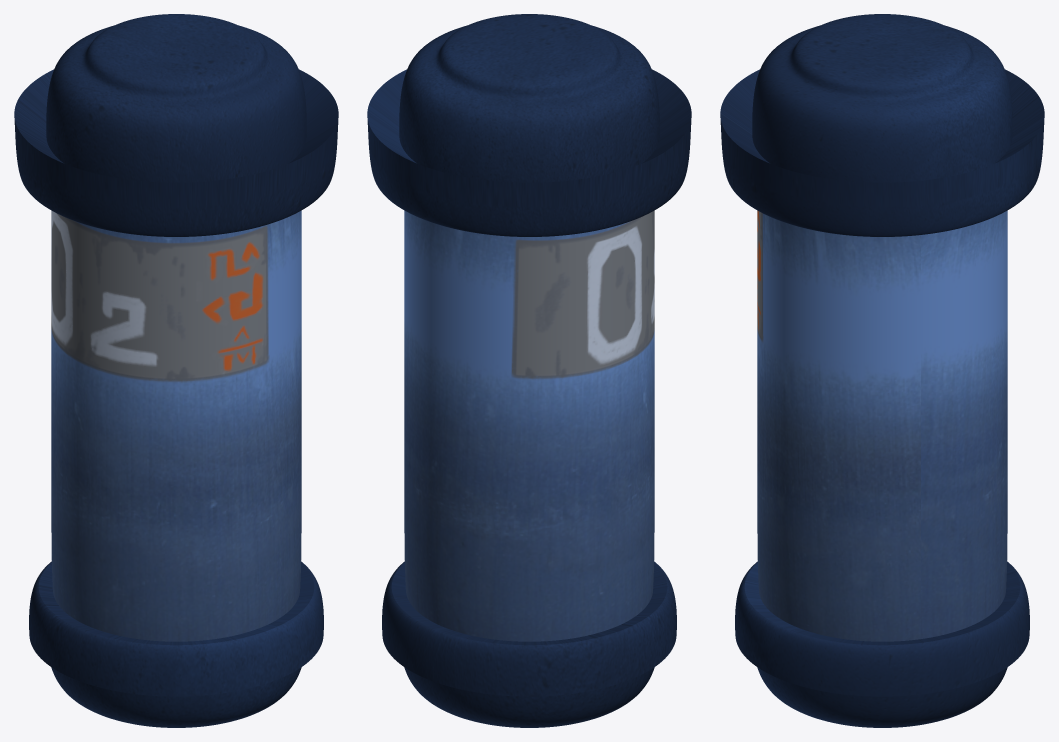
The model's file is OXYGENTANK3.fbx.
The picture shows the model from 3 angles, left to right: view 1: azimuth 30°, elevation 25°; view 2: azimuth 150°, elevation 25°; view 3: azimuth 270°, elevation 25°; orthographic projection.
Visible parts, largest first — view 1: O2Tank; view 2: O2Tank; view 3: O2Tank.
Boxes of the visible parts, bbox=[...] form: O2Tank: bbox=[14, 14, 338, 727]; O2Tank: bbox=[367, 14, 691, 727]; O2Tank: bbox=[720, 14, 1044, 727].
Size of the model in its own units: 3.09 by 6.74 by 3.09.
